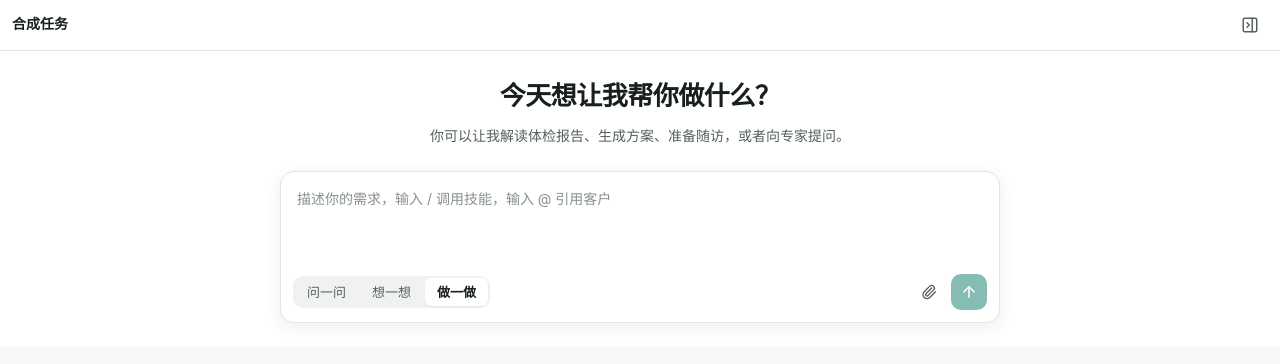
Test: ChatPane sending and streaming › shows a friendly message for stream error events
This screenshot has width=1280, height=364.
Step 1. Type "合成问题" into the text box → (640, 220), box top-left (293, 184), bottom-right (987, 256)
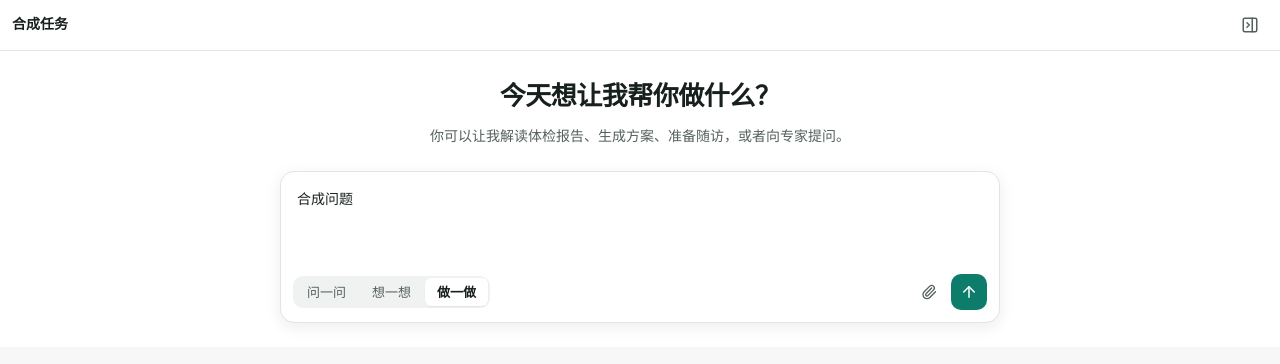
Step 2. Press Enter
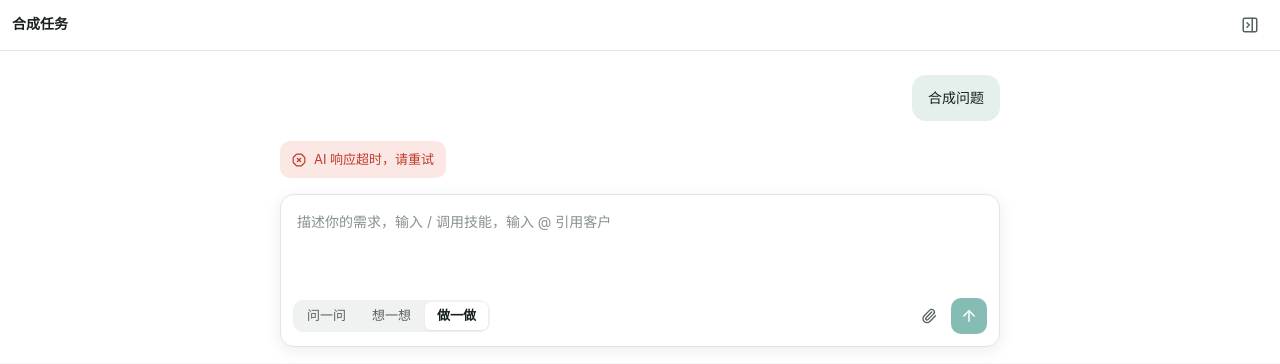
Check: the text "AI 响应超时，请重试" is shown, box top-left (280, 141), bottom-right (446, 178)
